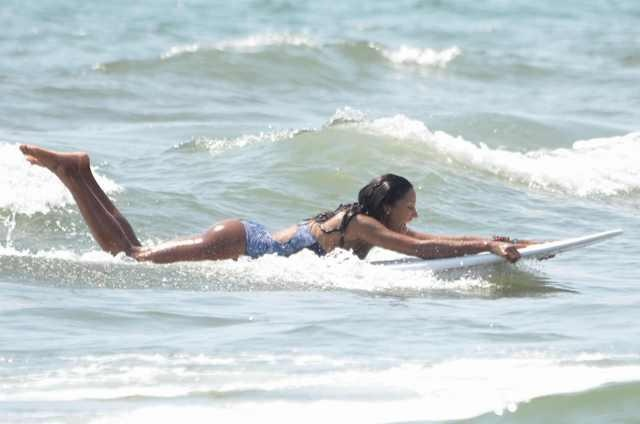person: (14, 138, 564, 275)
